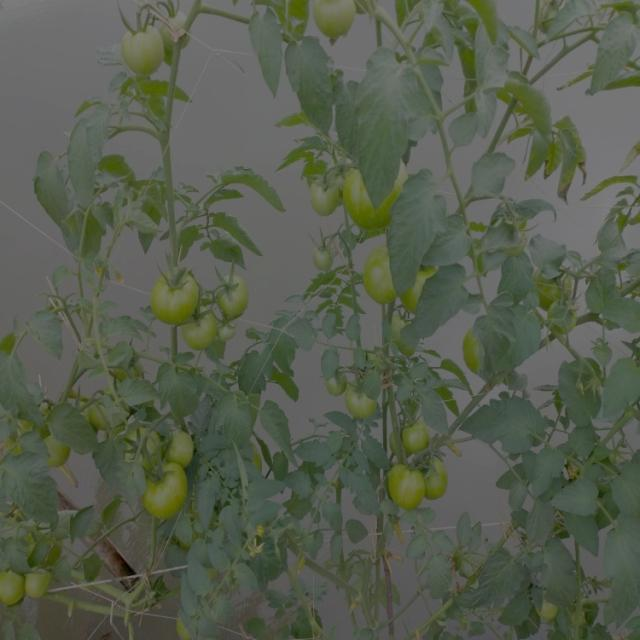tomato: (351, 154, 417, 231), (127, 466, 206, 527), (462, 325, 523, 382), (145, 417, 209, 467), (150, 261, 201, 323), (117, 11, 161, 79), (530, 260, 574, 327), (307, 155, 347, 223), (306, 4, 360, 53), (181, 307, 229, 361), (212, 266, 257, 320), (384, 466, 429, 519), (362, 251, 399, 313), (155, 6, 197, 53), (401, 411, 440, 460), (74, 394, 116, 439), (36, 427, 71, 478), (350, 388, 387, 436), (409, 255, 440, 311), (423, 464, 454, 510), (28, 564, 53, 609), (325, 360, 352, 399), (1, 571, 23, 616), (535, 592, 559, 630)
